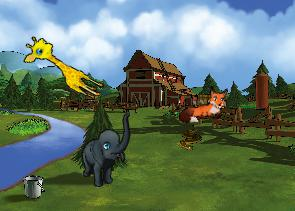elephant: (75, 112, 140, 189)
fox: (176, 84, 231, 125)
giraffe: (18, 32, 111, 102)
